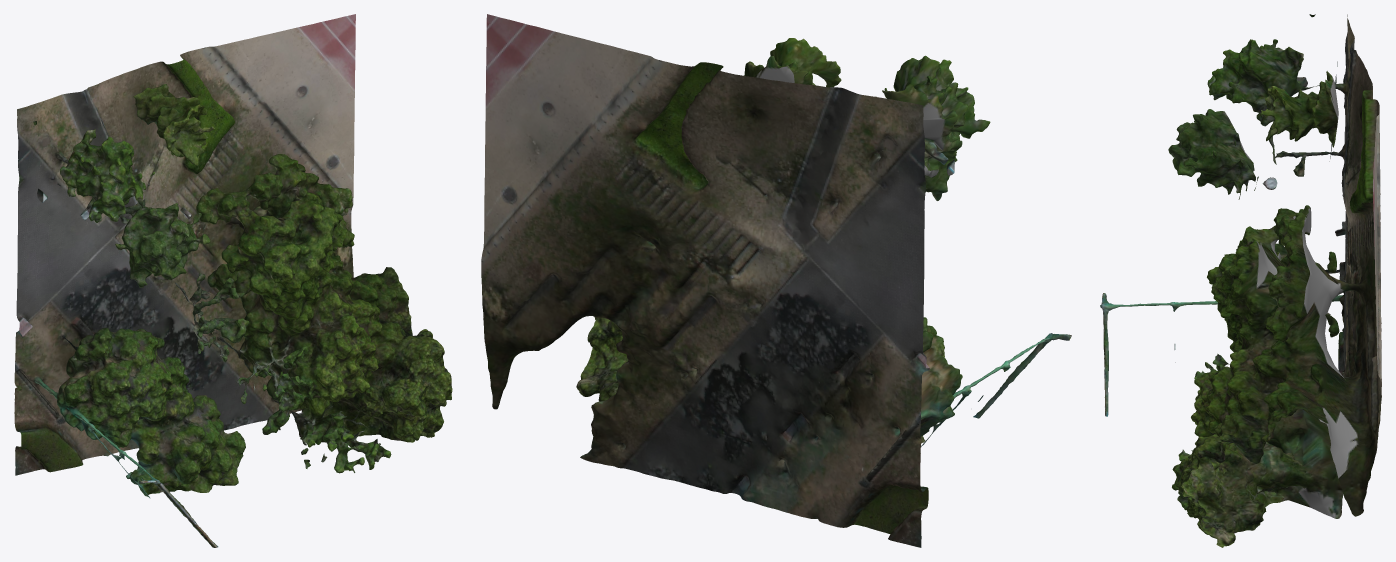
Rendered from Tile_+017_+011.fbx.
3 views of the same model, side by side, from view 1: azimuth 30°, elevation 25°; view 2: azimuth 150°, elevation 25°; view 3: azimuth 270°, elevation 25° (orthographic). The views are drawn at different scales.
Parts seen in each view (by area): view 1: DefaultName; view 2: DefaultName; view 3: DefaultName.
Boxes of the visible parts, x1,y1,x2,y2 form: DefaultName: [14, 14, 452, 547]; DefaultName: [481, 14, 1071, 547]; DefaultName: [1100, 14, 1381, 547].
Size of the model in its own units: 22.54 by 22.54 by 15.81.
